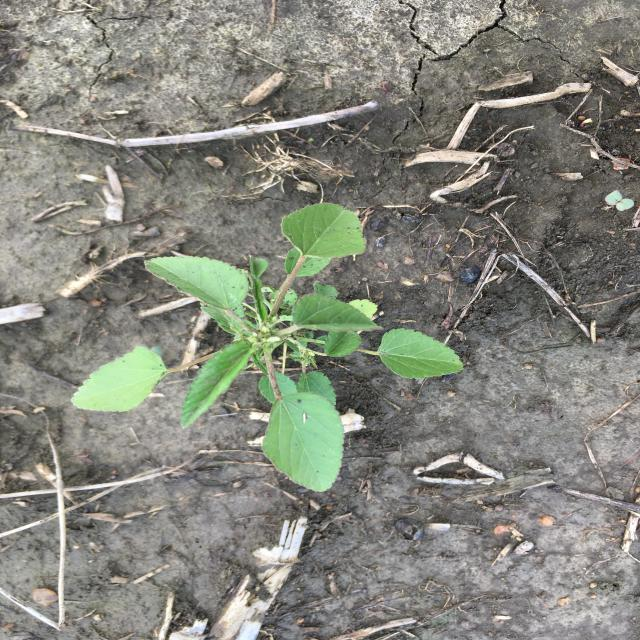PricklySida: (70, 200, 467, 495)
